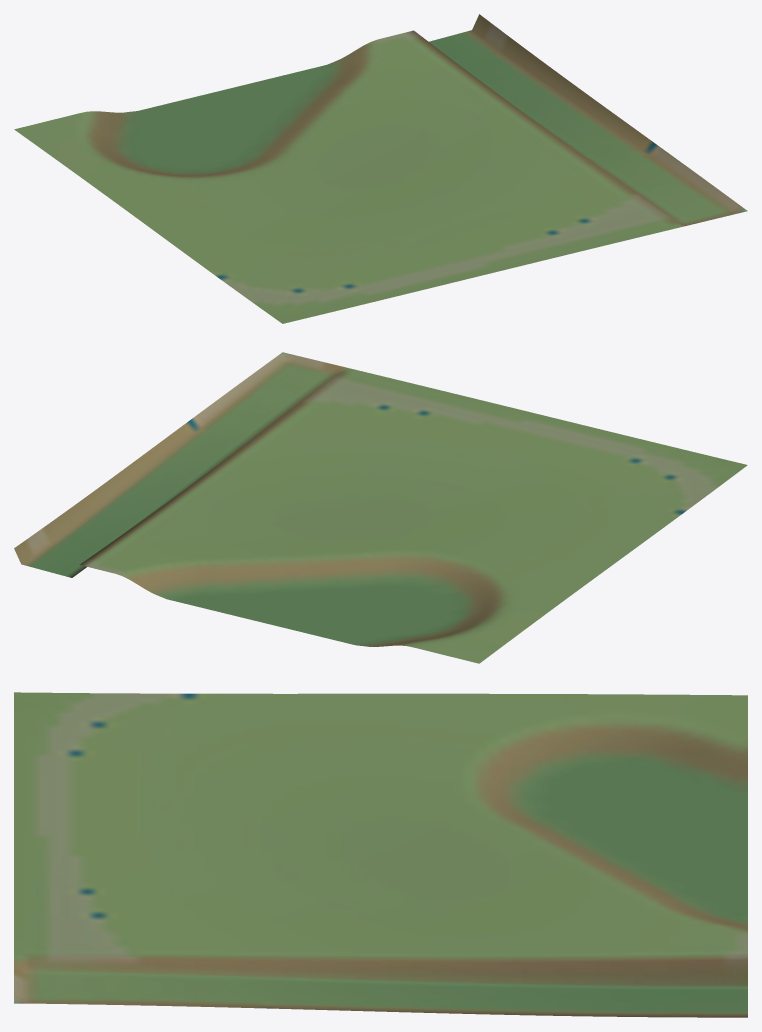
File: terrain_T_W04_N03.glb
3 views of the same model, one above another, from view 1: azimuth 30°, elevation 25°; view 2: azimuth 150°, elevation 25°; view 3: azimuth 270°, elevation 25° (orthographic). The views are drawn at different scales.
Visible parts, largest first — view 1: Terrain_T_W04_N03; view 2: Terrain_T_W04_N03; view 3: Terrain_T_W04_N03.
Part boxes in pixels (left/top/right/bottom): Terrain_T_W04_N03: left=14, top=14, right=747, bottom=323; Terrain_T_W04_N03: left=14, top=352, right=747, bottom=663; Terrain_T_W04_N03: left=14, top=692, right=747, bottom=1017.
Size of the model in its own units: 2000 by 64.81 by 2000.
1 material, 1 textured.
